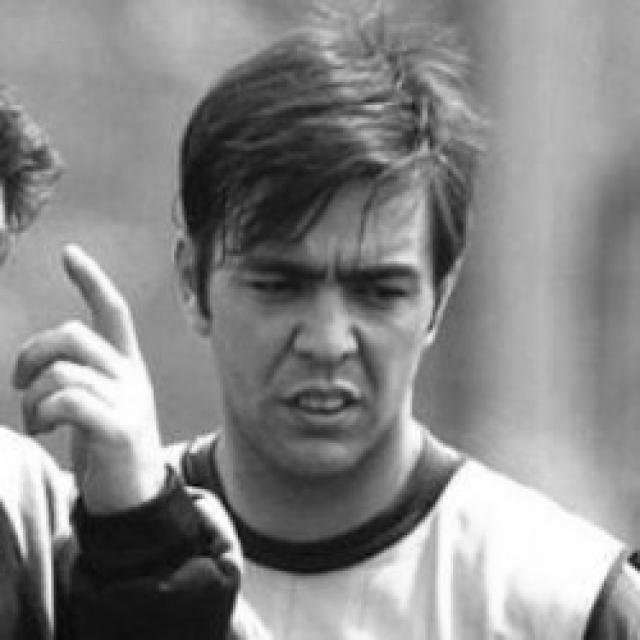real: (210, 151, 434, 477), (240, 259, 412, 313)
